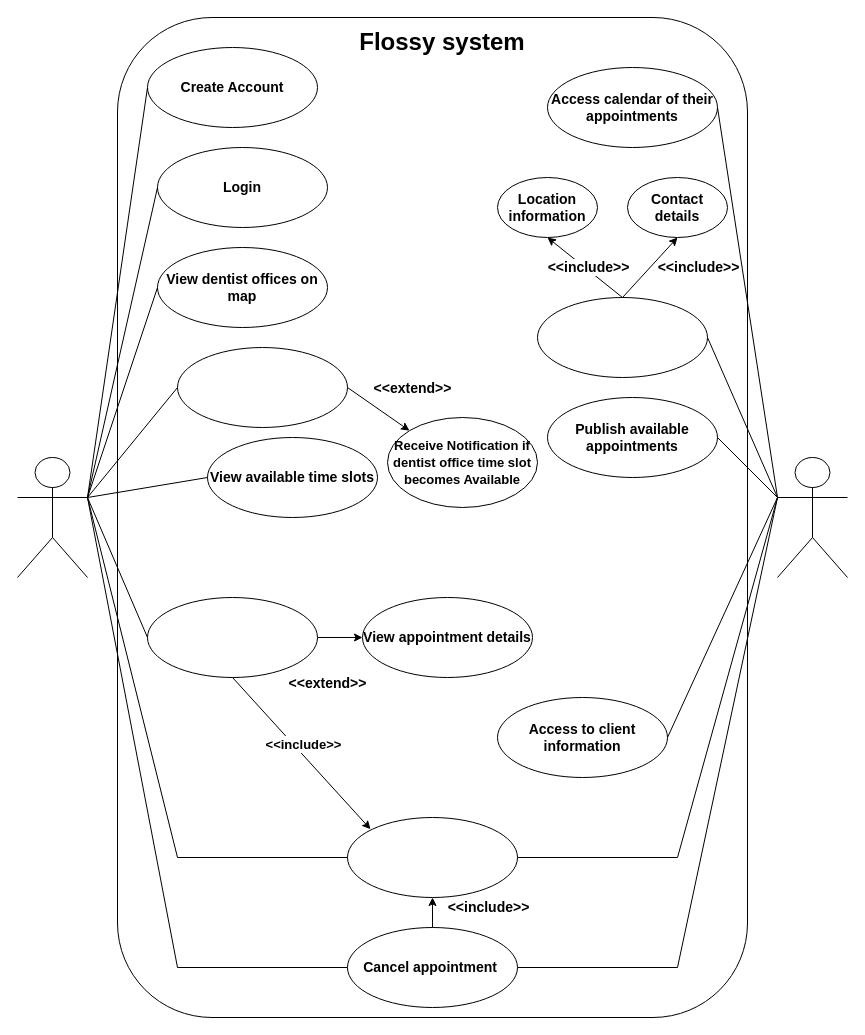
Image size: 865x1035. Some labels were removed from this diagram. The shapes that lost their labels are listed below. From the top down, each one's centre as x and y in pixels, then its label:
At (622,337): "Register dentist office".
At (262,387): "Add to interst list".
At (52,517): "Patient".
At (812,517): "Dentist".
At (232,637): "Book appointment".
At (432,857): "Receive appointment notifications".
